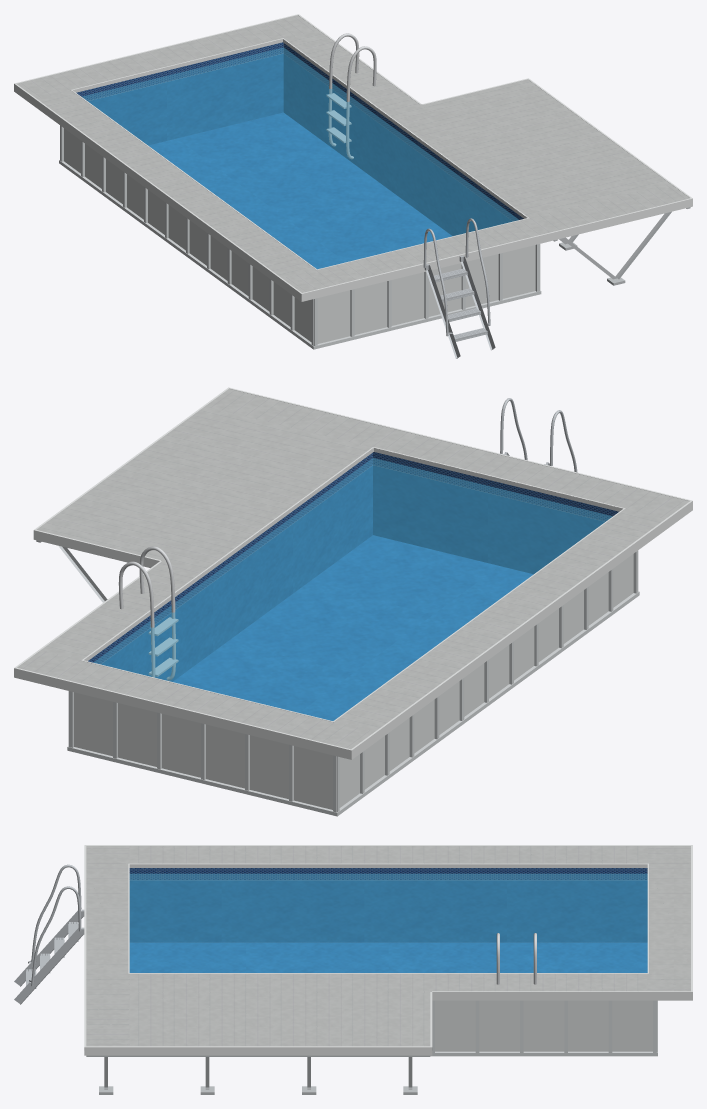
File: kayak-pool-12x24-white-l-ag-nofence.4c9a2c1434.glb
The picture shows the model from 3 angles, top to bottom: view 1: azimuth 30°, elevation 25°; view 2: azimuth 150°, elevation 25°; view 3: azimuth 270°, elevation 25°; orthographic projection. The views are drawn at different scales.
Parts seen in each view (by area): view 1: water, deck, liner_wall, liner_floor, wall, fascia, upright, ladder, steel, stud; view 2: water, deck, liner_wall, liner_floor, wall, fascia, upright, steel, ladder; view 3: water, deck, liner_wall, liner_floor, fascia, wall, ladder, upright, stud, steel.
Part boxes in pixels (<box>): water: <box>82,47,518,269</box>; deck: <box>17,15,689,292</box>; liner_wall: <box>76,42,523,235</box>; liner_floor: <box>148,112,451,269</box>; wall: <box>64,128,535,343</box>; fascia: <box>14,14,692,301</box>; upright: <box>59,125,541,349</box>; ladder: <box>423,218,495,358</box>; steel: <box>326,33,376,159</box>; stud: <box>553,207,690,285</box>; water: <box>93,458,612,720</box>; deck: <box>17,389,689,749</box>; liner_wall: <box>88,452,618,681</box>; liner_floor: <box>173,535,533,720</box>; wall: <box>74,554,633,809</box>; fascia: <box>14,387,692,759</box>; upright: <box>67,550,639,816</box>; steel: <box>118,546,178,680</box>; ladder: <box>500,398,577,472</box>; water: <box>129,873,647,972</box>; deck: <box>84,846,690,1050</box>; liner_wall: <box>129,868,647,942</box>; liner_floor: <box>129,942,647,972</box>; fascia: <box>84,845,692,1055</box>; wall: <box>435,1000,652,1051</box>; ladder: <box>14,864,84,1004</box>; upright: <box>430,1000,657,1056</box>; stud: <box>86,1055,430,1094</box>; steel: <box>496,933,536,984</box>.
Size of the model in its own units: 6.71 by 1.9 by 9.52.
10 materials, 3 textured.
